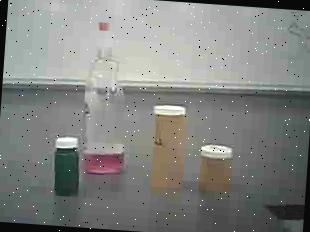Bottle A: (146, 102, 191, 198)
Bottle B: (193, 130, 237, 197)
Bottle C: (48, 134, 87, 199)
hazard: (71, 15, 147, 178)
